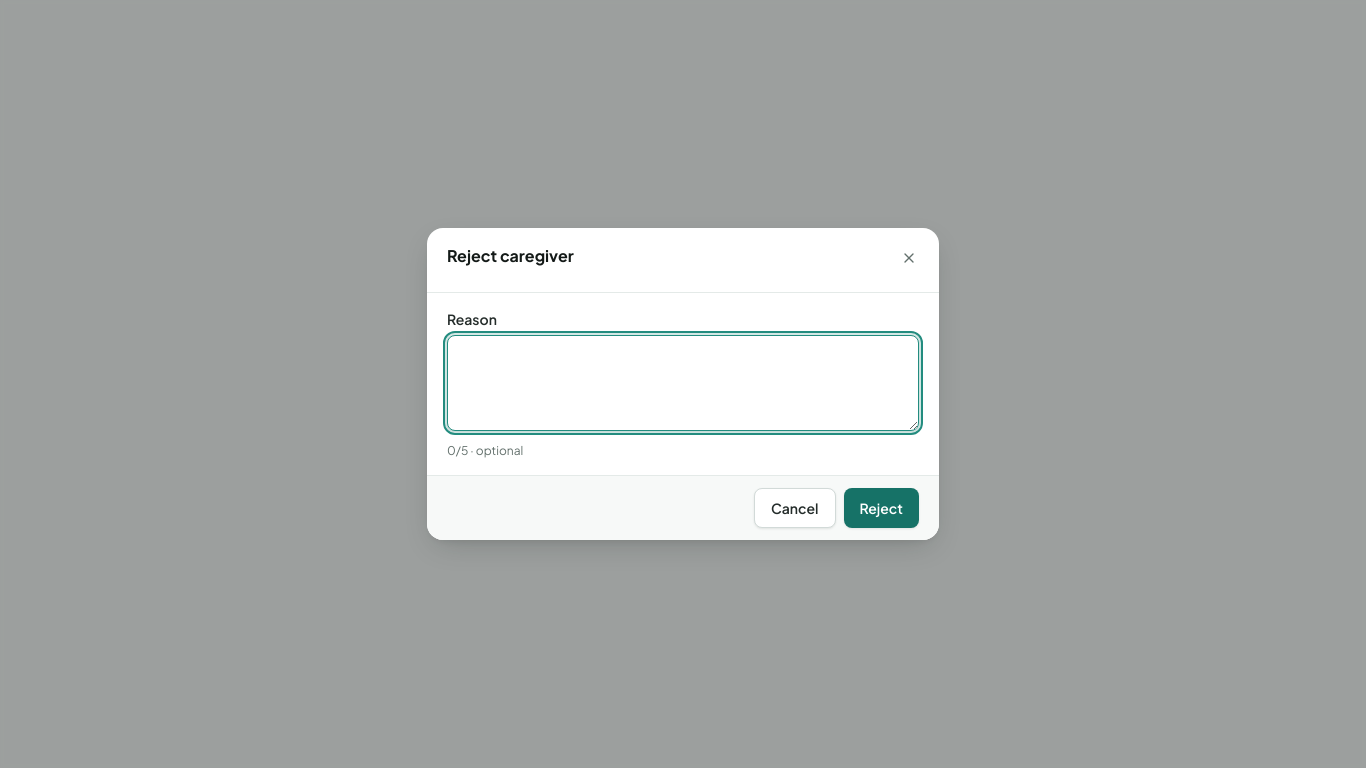
Test: ReasonDialog › respects maxLength
In the text box labelled "Reason": (683, 383) [447, 335, 919, 431], type "1234567"
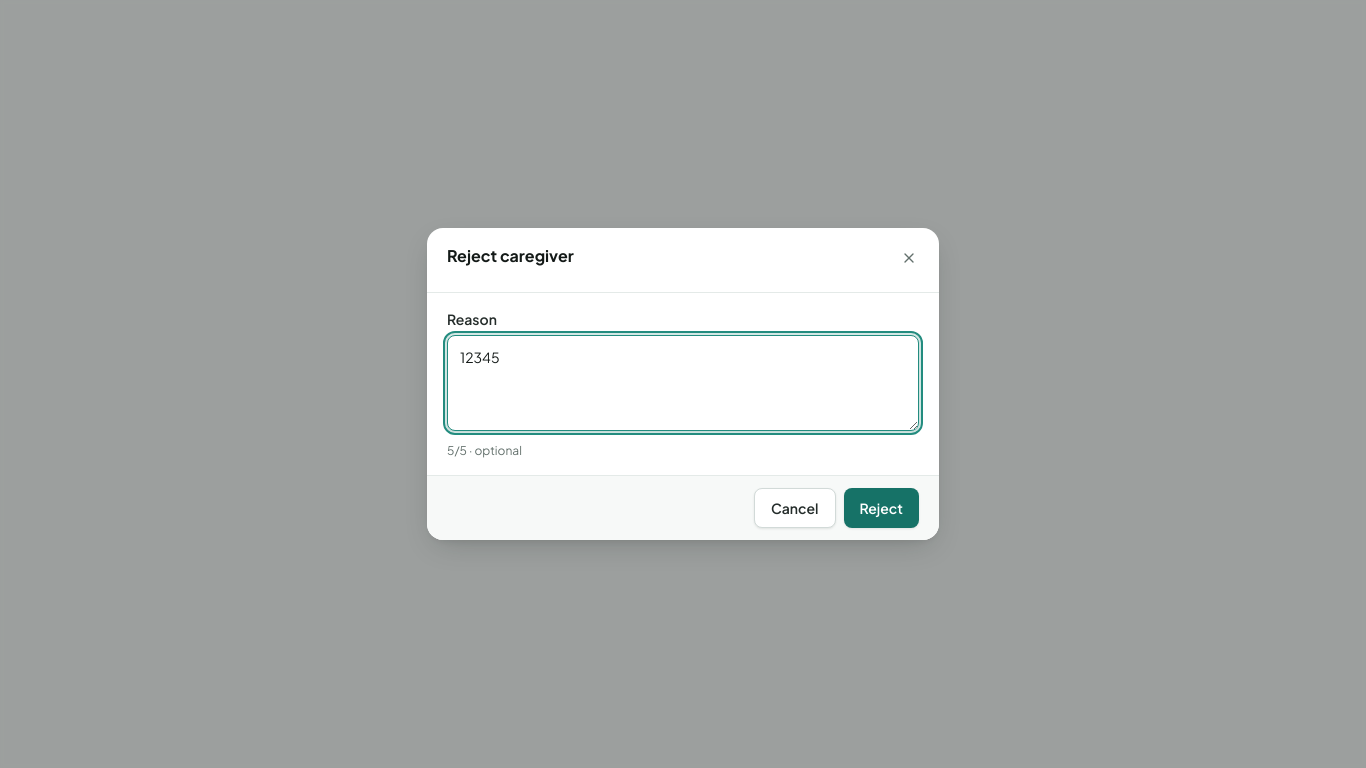
Expected: the text box labelled "Reason" holds "12345", [447, 335, 919, 431]
